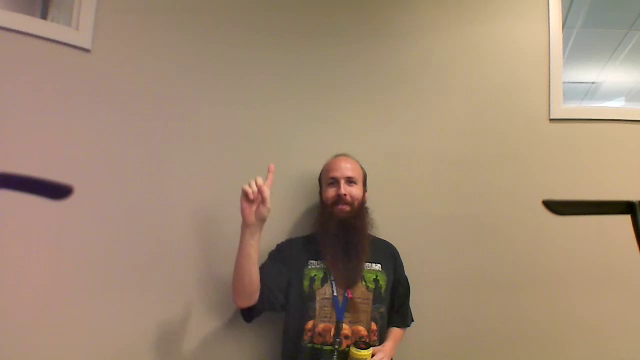up: (235, 159, 276, 237)
